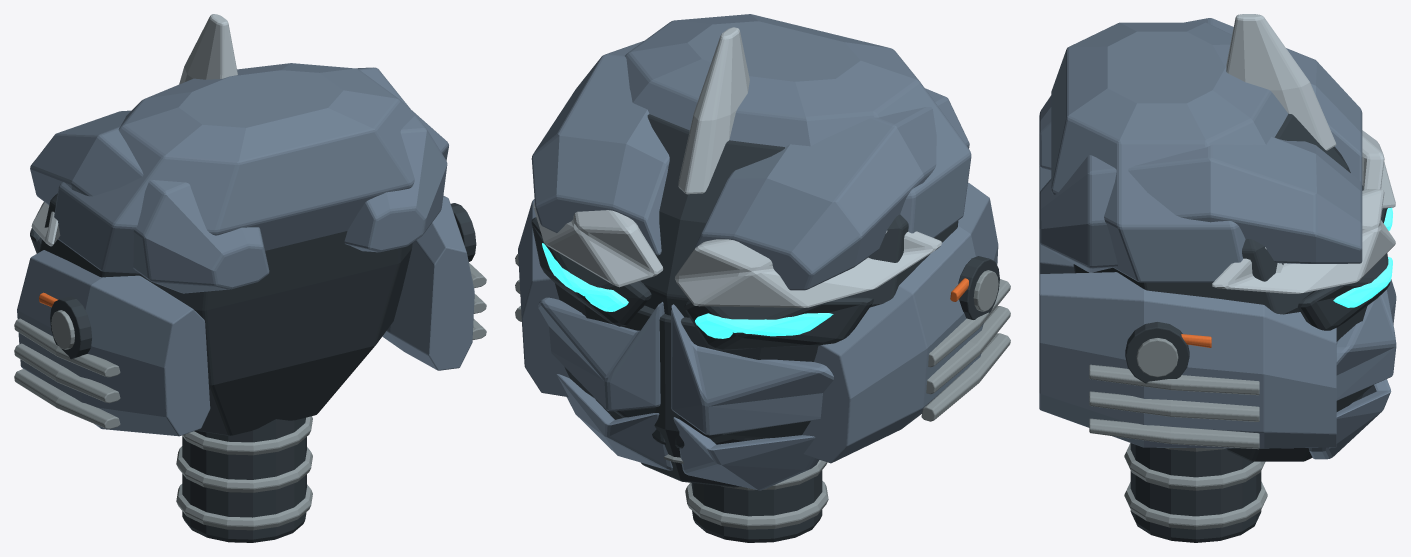
The picture shows the model from 3 angles, left to right: view 1: azimuth 30°, elevation 25°; view 2: azimuth 150°, elevation 25°; view 3: azimuth 270°, elevation 25°; orthographic projection. The views are drawn at different scales.
Visible parts, largest first — view 1: Head_hero; view 2: Head_hero; view 3: Head_hero.
Part boxes in pixels (left/top/right/bottom): Head_hero: left=14, top=14, right=486, bottom=542; Head_hero: left=515, top=14, right=1010, bottom=542; Head_hero: left=1039, top=14, right=1396, bottom=542.
Bounding box in the file's own units: 0.5414 × 0.6166 × 0.3972.
